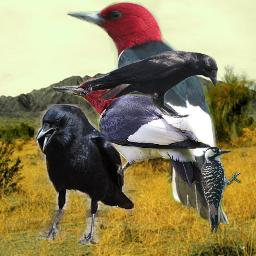Crow: (34, 104, 134, 245), (80, 50, 218, 118)
Woodpecker: (64, 1, 234, 224), (53, 78, 211, 191), (199, 146, 243, 234)
